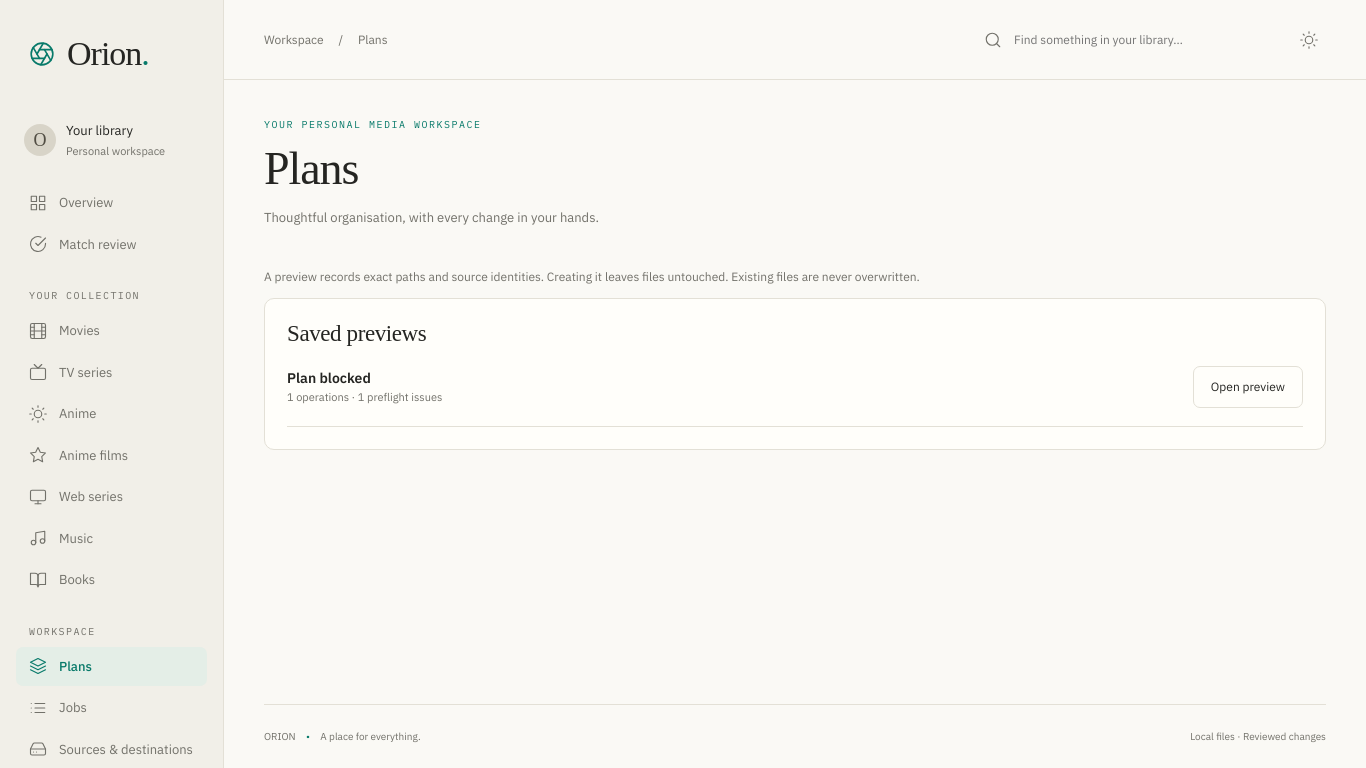
Test: undo conflict exclusion creates a new preview and resets execution approval
Click the button with aria-label "Open plan blocked" at (1248, 387), box [1193,366,1303,408]
(page scrolled)
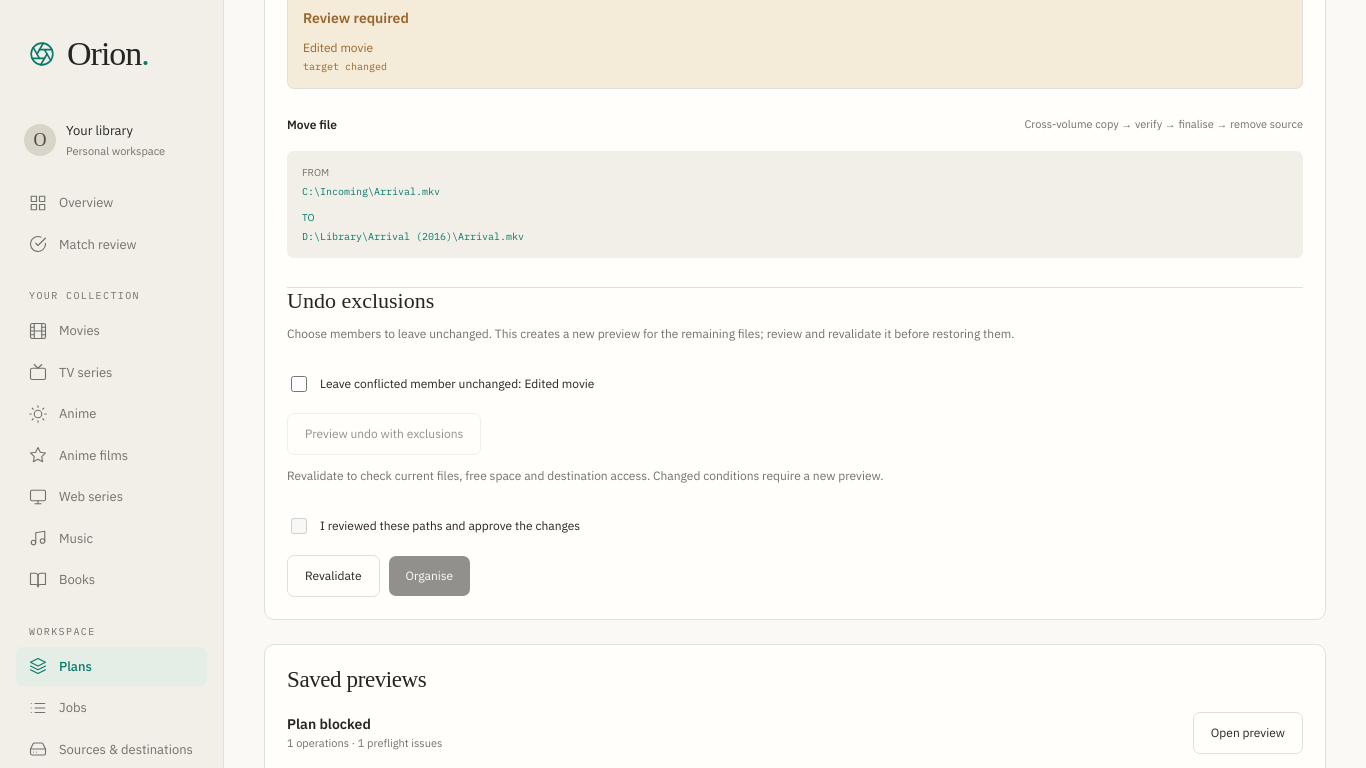
Click the checkbox labelled "Leave conflicted member unchanged: Edited movie" at (299, 384), box [291,376,307,392]
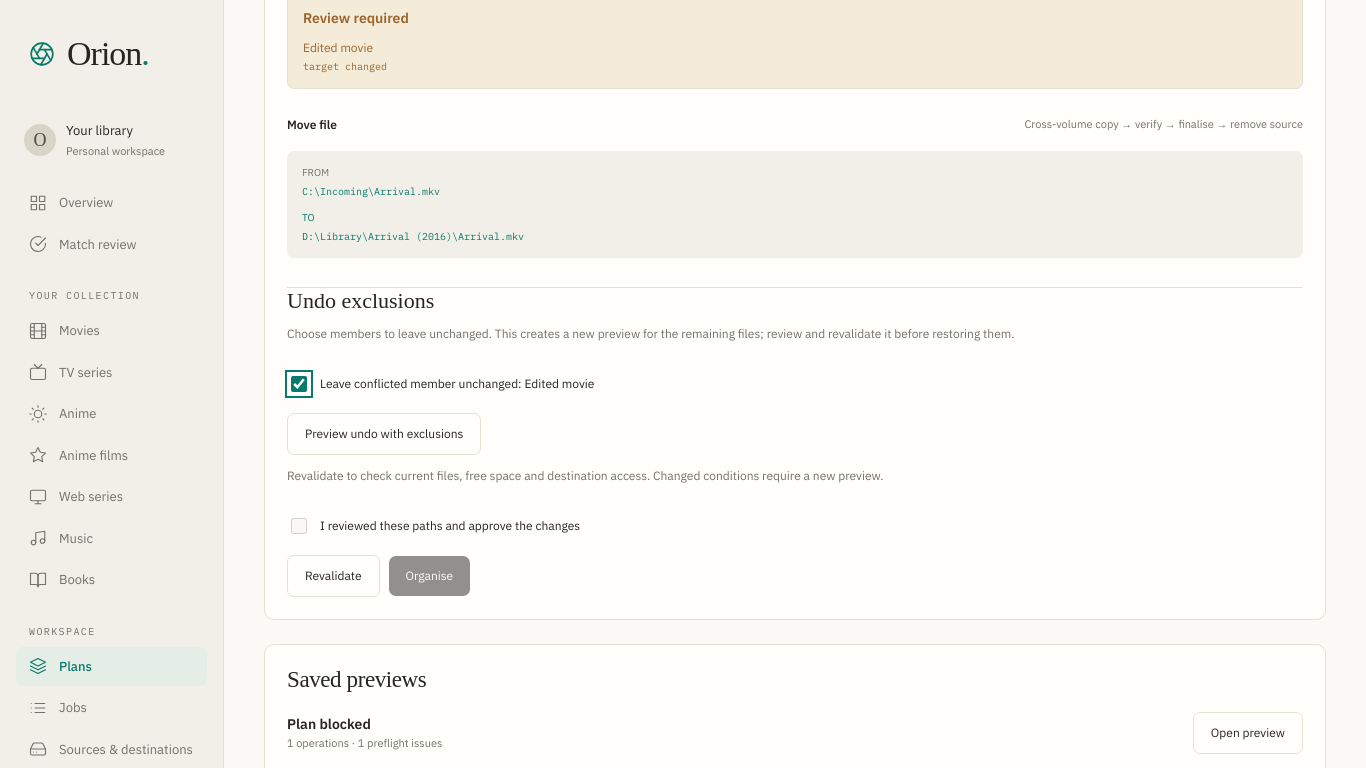
Click the button "Preview undo with exclusions" at (384, 434), box [287,413,481,455]
(page scrolled)
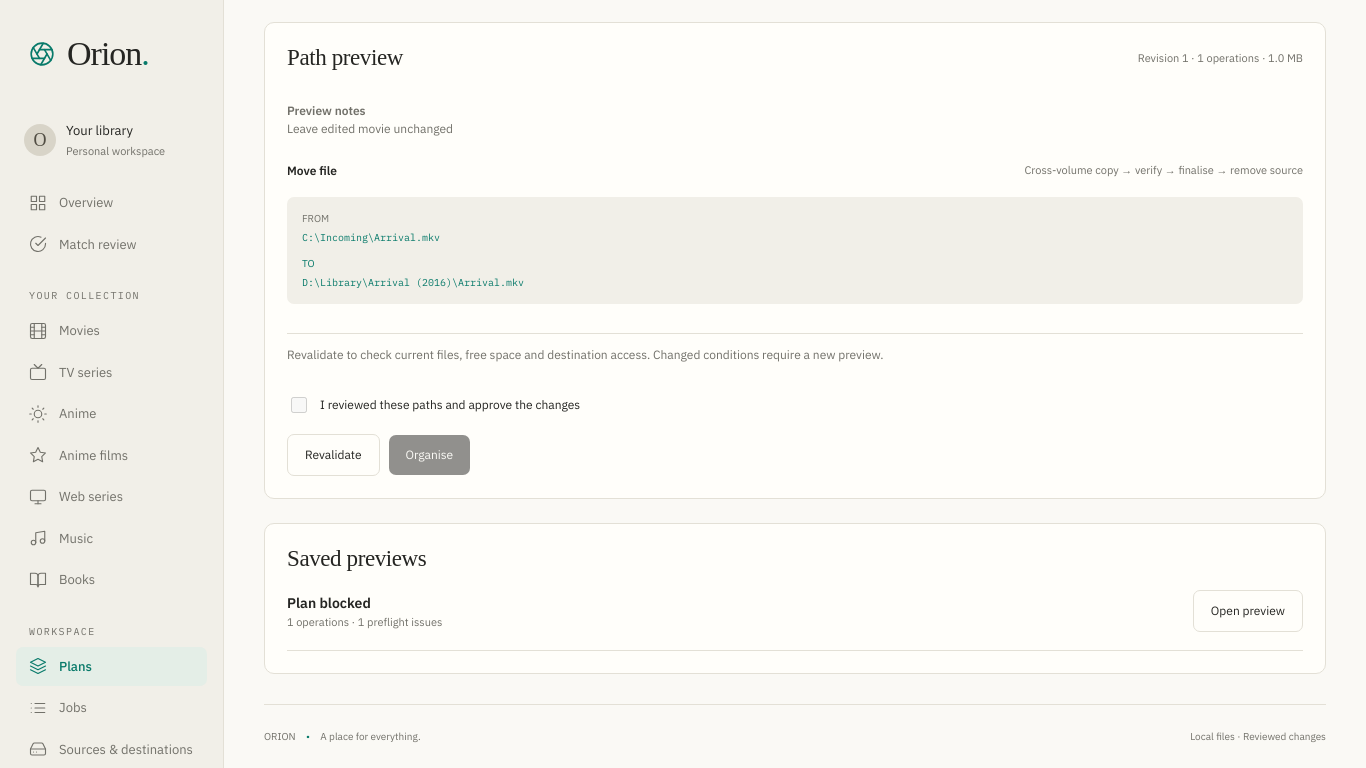
Check: the button "Organise" is disabled, box [389,435,470,475]
Check: the text "Leave edited movie unchanged" is shown, box [287,121,453,136]
